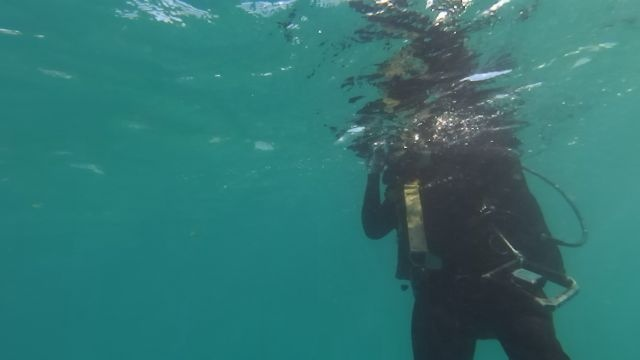Diver: (343, 40, 597, 355)
